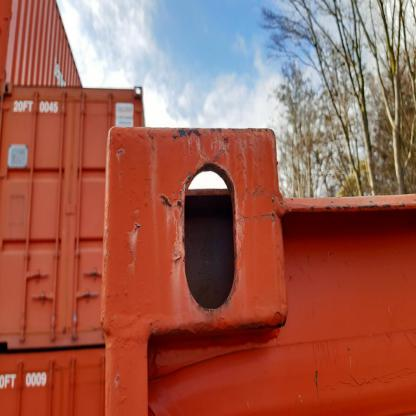CornerCasting: (100, 115, 292, 336)
